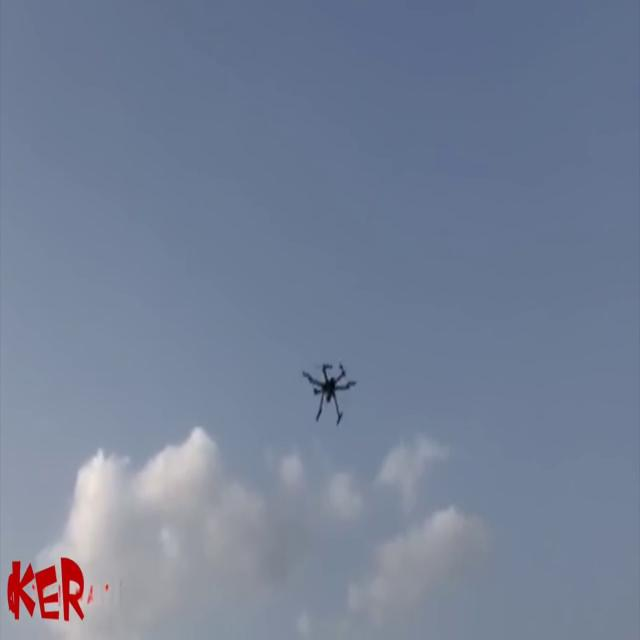drone: (288, 342, 361, 428)
